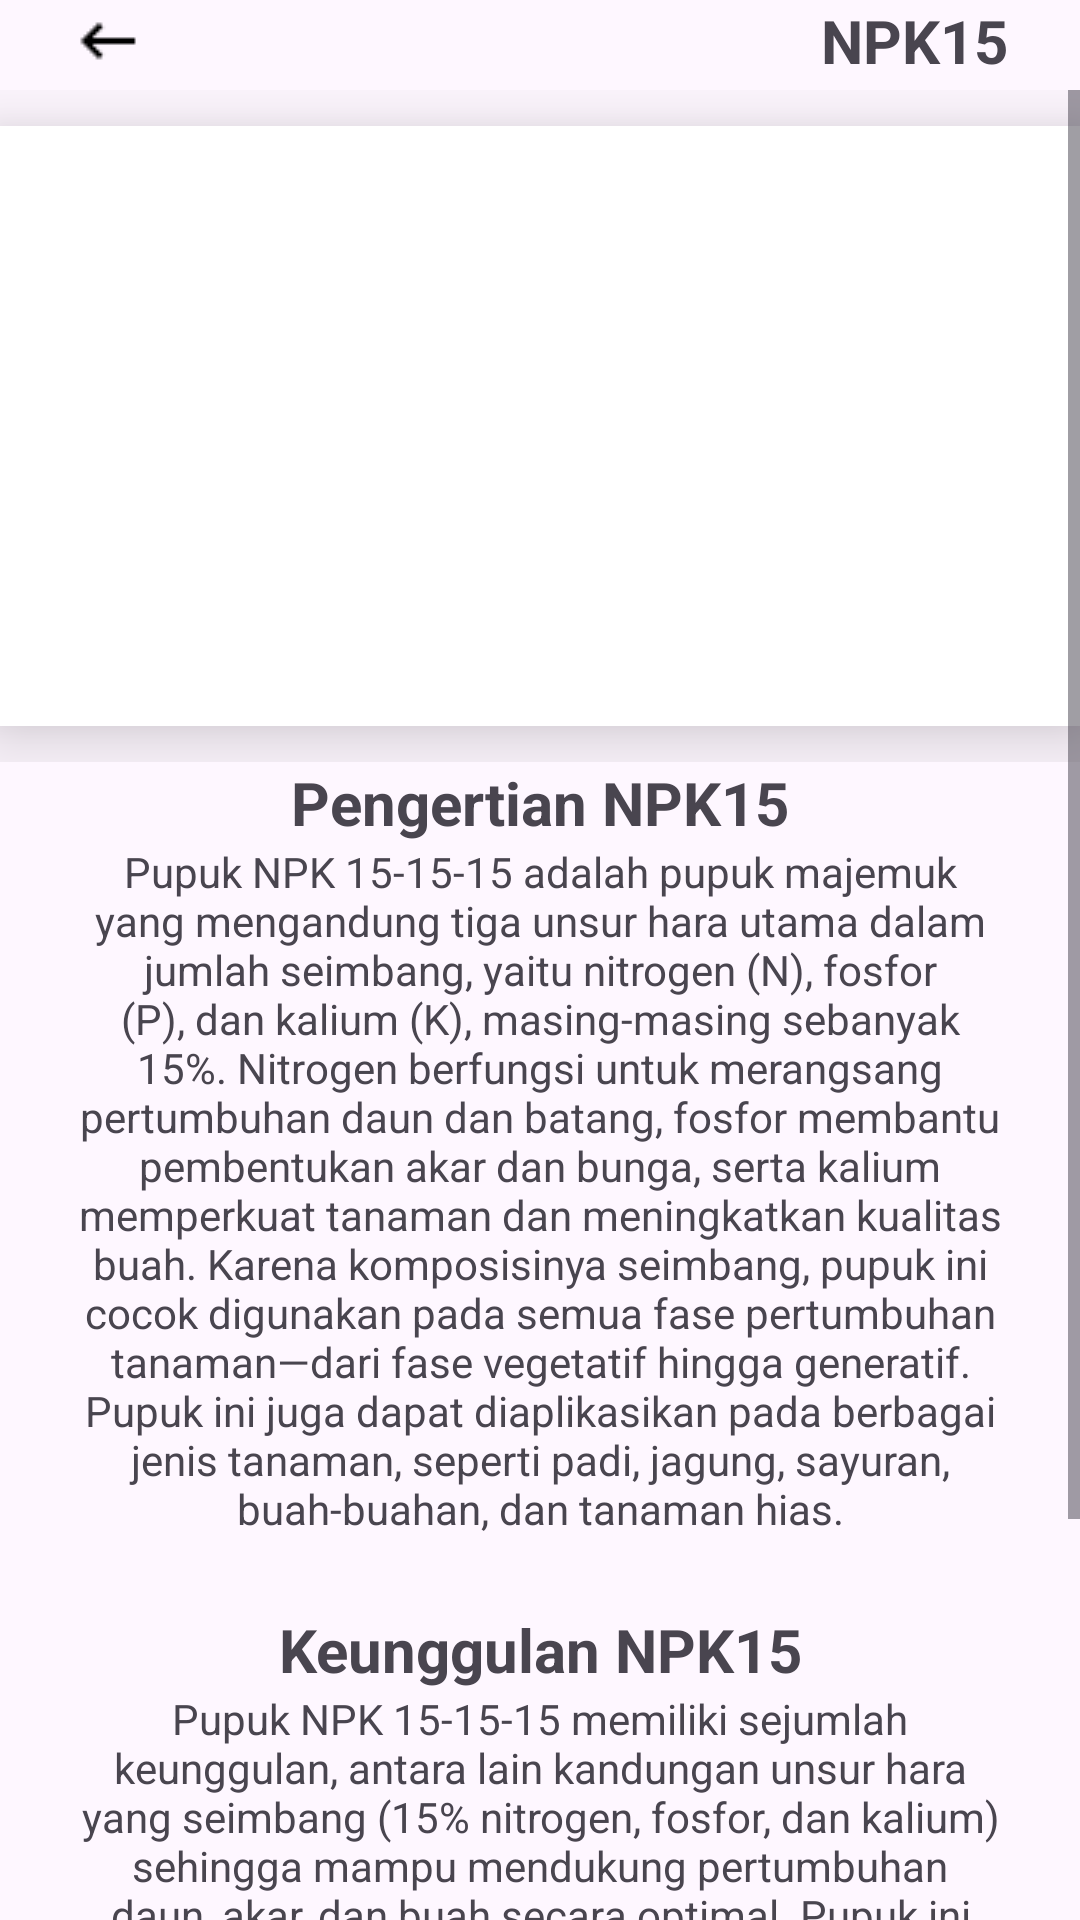

Screen size 1080*1920. Icon name, then its box in pixels as (x1, y1, x2, y2):
keyboard backspace: (80, 22, 136, 60)
